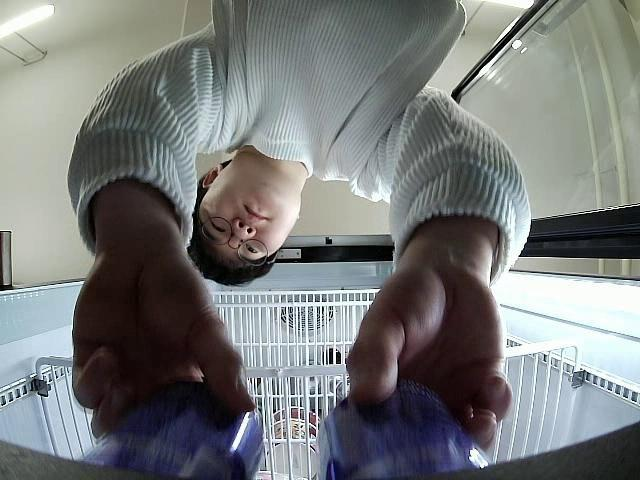14_welchsGrape: (79, 374, 262, 480), (309, 380, 490, 480)
